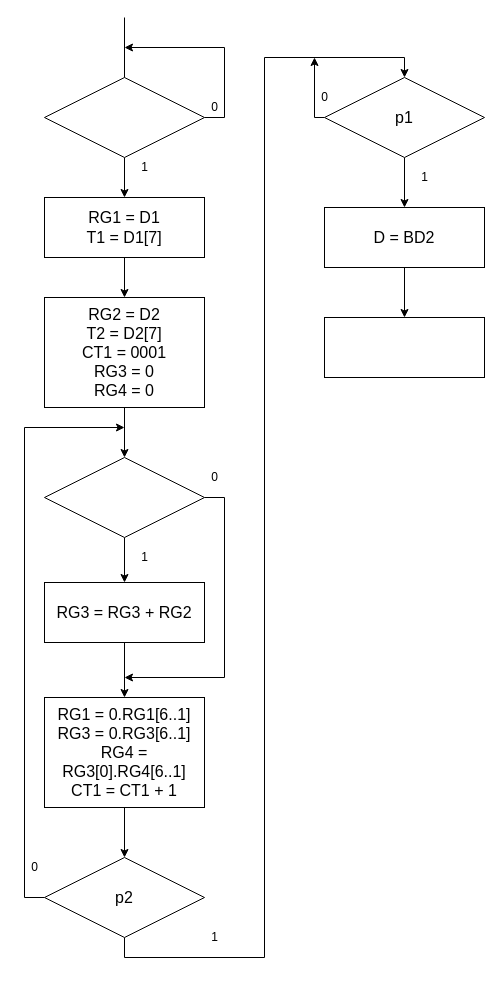
Image size: 502x983. Some labels were removed from this diagram. The shapes that lost their labels are listed below. From the top down, each one's centre as x and y in pixels, then its label:
the point at 124,117: p0
the point at 404,347: D = BD1
the point at 124,497: p3
